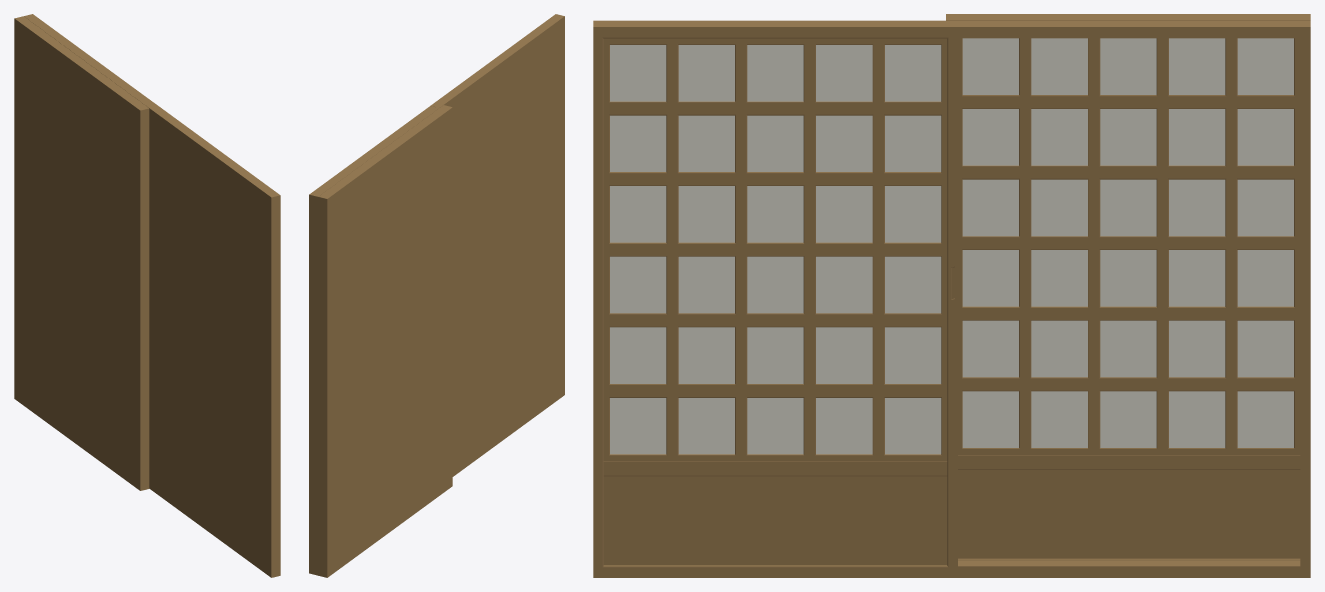
Rendered from Right_Door_Main_Hall.fbx.
3 renders of one model, left to right at view 1: azimuth 30°, elevation 25°; view 2: azimuth 150°, elevation 25°; view 3: azimuth 270°, elevation 25°, orthographic. The views are drawn at different scales.
Visible parts, largest first — view 1: Cube.014; view 2: Cube.014; view 3: Cube.014.
Part boxes in pixels (x1,y1,x2,y2): Cube.014: [14, 14, 280, 577]; Cube.014: [309, 14, 564, 577]; Cube.014: [593, 14, 1310, 577].
Bounding box in the file's own units: 10.11 × 200 × 236.
